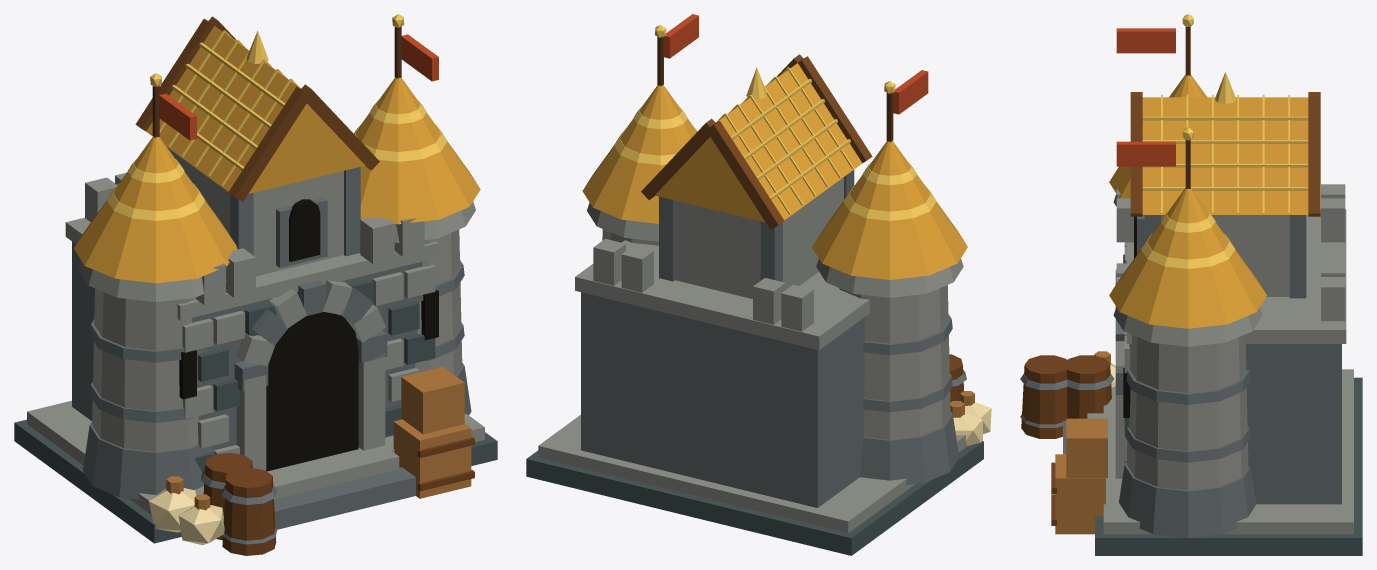
The model's file is storehouse.glb.
The picture shows the model from 3 angles, left to right: view 1: azimuth 30°, elevation 25°; view 2: azimuth 150°, elevation 25°; view 3: azimuth 270°, elevation 25°; orthographic projection. The views are drawn at different scales.
Parts seen in each view (by area): view 1: Arch voussoir.005, Roof, Arch voussoir, Gateway, Bargeboard.002, Wall facing stone.014, Storehouse crate.001, Pole finial, Store sack, Turret pennant, Turret pole; view 2: Arch voussoir, Arch voussoir.005, Roof, Wall facing stone.014, Pole finial, Bargeboard.002, Turret pennant, Store sack, Turret pole; view 3: Arch voussoir.005, Arch voussoir, Roof, Bargeboard.002, Wall facing stone.014, Pole finial, Storehouse crate.001, Turret pennant, Turret pole, Gateway.
Boxes of the visible parts, x1,y1,x2,y2 form: Arch voussoir.005: (27,147,484,514); Roof: (74,26,480,283); Arch voussoir: (72,167,471,544); Gateway: (179,199,438,471); Bargeboard.002: (135,16,474,555); Wall facing stone.014: (14,280,497,543); Storehouse crate.001: (166,367,471,510); Pole finial: (107,14,447,220); Store sack: (149,488,224,545); Turret pennant: (159,34,438,140); Turret pole: (152,26,401,137); Arch voussoir: (581,170,966,507); Arch voussoir.005: (538,177,966,533); Roof: (582,63,967,279); Wall facing stone.014: (526,441,983,555); Pole finial: (614,25,936,220); Bargeboard.002: (641,54,963,402); Turret pennant: (664,14,928,114); Store sack: (953,402,991,445); Turret pole: (657,37,893,142); Arch voussoir.005: (1087,184,1353,534); Arch voussoir: (1020,215,1341,537); Roof: (1109,74,1308,328); Bargeboard.002: (1021,92,1320,525); Wall facing stone.014: (1095,261,1362,555); Pole finial: (1141,14,1308,268); Storehouse crate.001: (1055,351,1110,534); Turret pennant: (1116,28,1175,166); Turret pole: (1185,27,1190,188); Gateway: (1123,216,1136,417).
Bounding box in the file's own units: 3.88 × 4.07 × 3.12.
